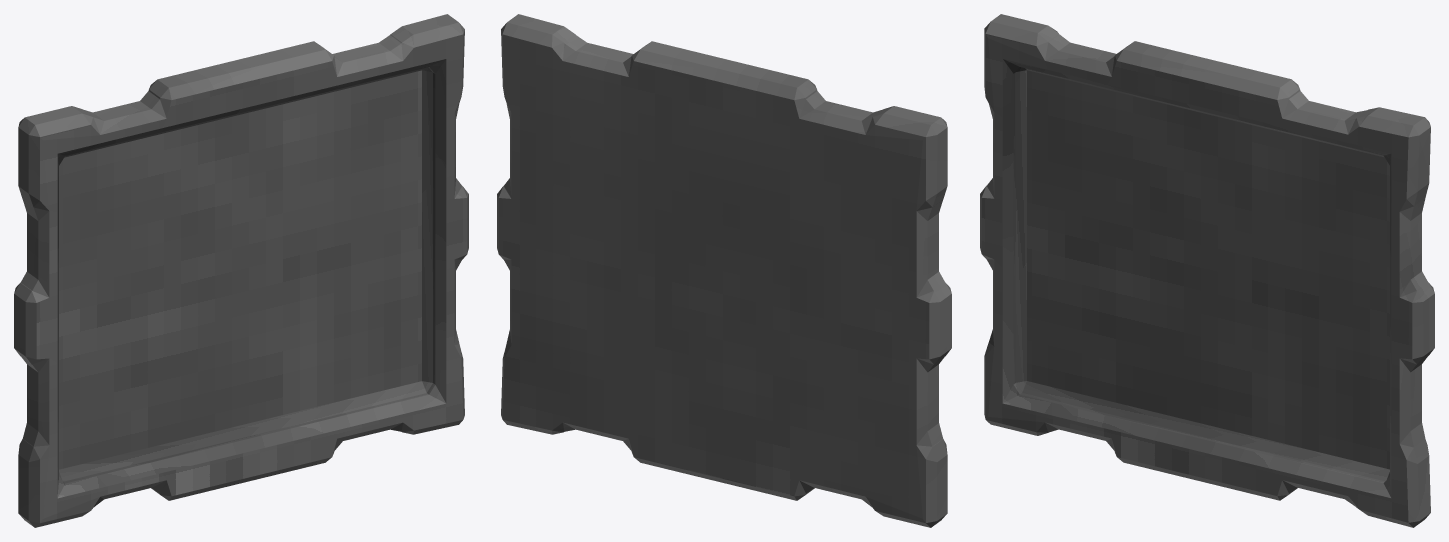
The model's file is wall_screen.glb.
3 renders of one model, left to right at view 1: azimuth 30°, elevation 25°; view 2: azimuth 150°, elevation 25°; view 3: azimuth 330°, elevation 25°, orthographic.
Visible parts, largest first — view 1: Wall Screen; view 2: Wall Screen; view 3: Wall Screen.
Part boxes in pixels (<box>): Wall Screen: <box>14,14,468,527</box>; Wall Screen: <box>497,14,951,527</box>; Wall Screen: <box>980,14,1434,527</box>.
Size of the model in its own units: 0.4613 by 0.4108 by 0.0384.
1 material, 1 textured.
